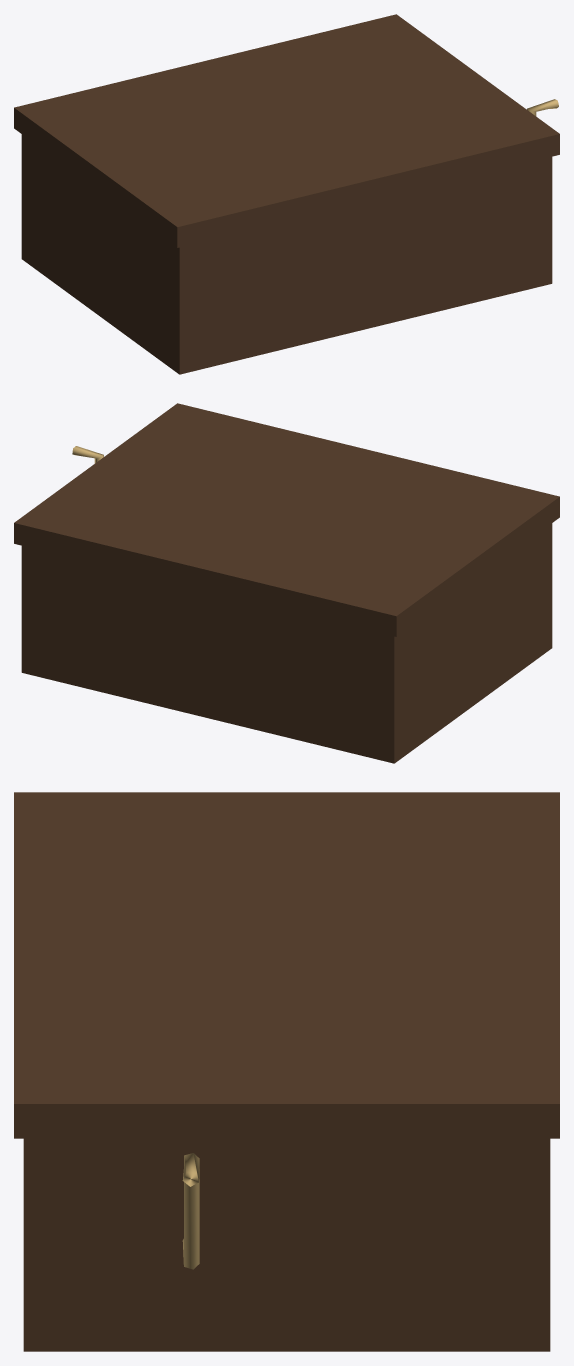
The model's file is music_box.glb.
The picture shows the model from 3 angles, top to bottom: view 1: azimuth 30°, elevation 25°; view 2: azimuth 150°, elevation 25°; view 3: azimuth 270°, elevation 25°; orthographic projection. The views are drawn at different scales.
Visible parts, largest first — view 1: lid_mesh, box; view 2: lid_mesh, box; view 3: lid_mesh, box, crank_mesh.
Part boxes in pixels (box(x1,y1,x2,y2)): lid_mesh: box(14, 14, 559, 247); box: box(21, 134, 552, 374); lid_mesh: box(14, 403, 559, 636); box: box(21, 523, 552, 763); lid_mesh: box(14, 792, 559, 1138); box: box(23, 1138, 550, 1351); crank_mesh: box(182, 1153, 199, 1269).
Size of the model in its own units: 0.174 by 0.058 by 0.114.
